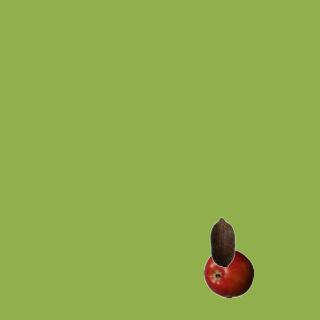Apple Braeburn: (203, 248, 253, 298)
Nut Pecan: (197, 216, 247, 266)
